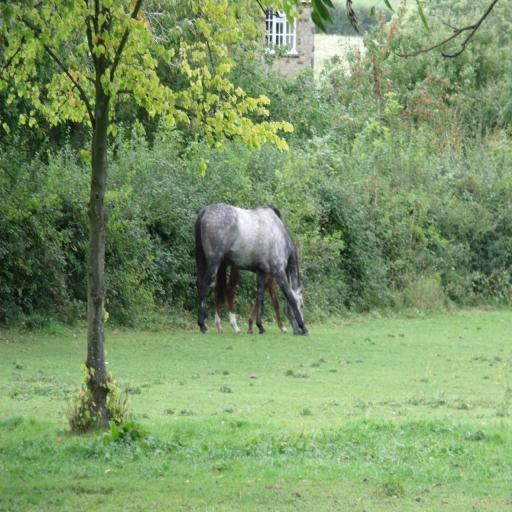horse: (194, 203, 309, 335), (214, 261, 286, 333)
